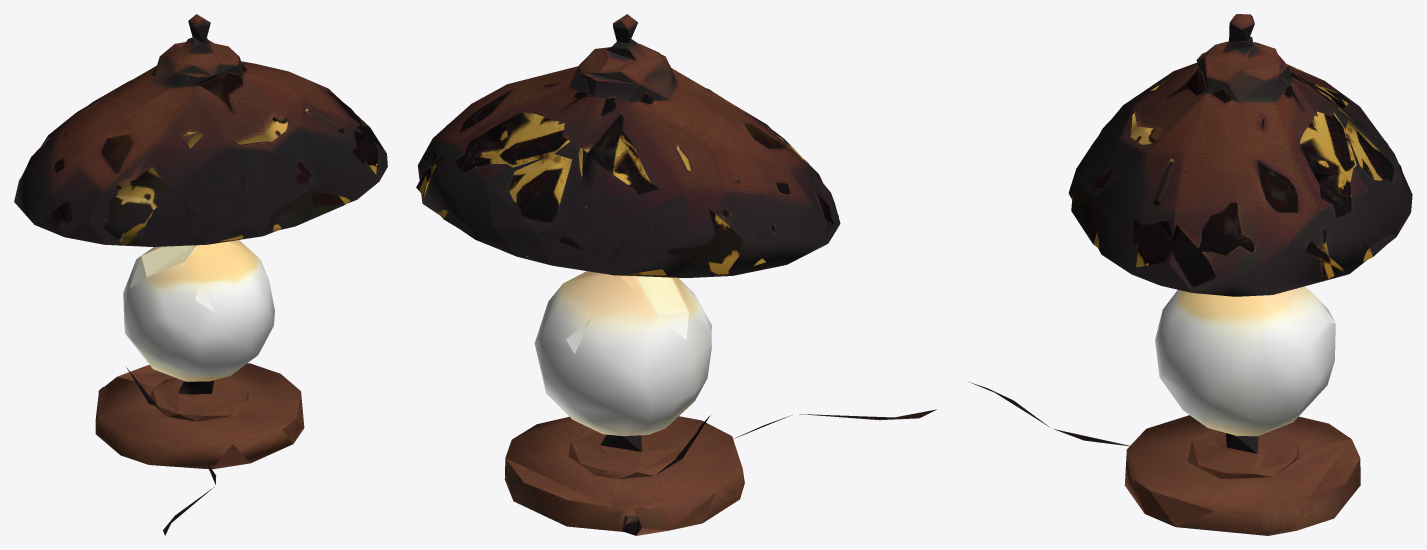
The model's file is PR_DeskLamp.fbx.
3 renders of one model, left to right at view 1: azimuth 30°, elevation 25°; view 2: azimuth 150°, elevation 25°; view 3: azimuth 270°, elevation 25°, orthographic. The views are drawn at different scales.
Parts seen in each view (by area): view 1: Mesh_0; view 2: Mesh_0; view 3: Mesh_0.
Part boxes in pixels (x1,y1,x2,y2): Mesh_0: (14,14,387,535); Mesh_0: (416,14,936,535); Mesh_0: (968,14,1412,535).
Bounding box in the file's own units: 166 × 189 × 162.
1 material, 1 textured.
